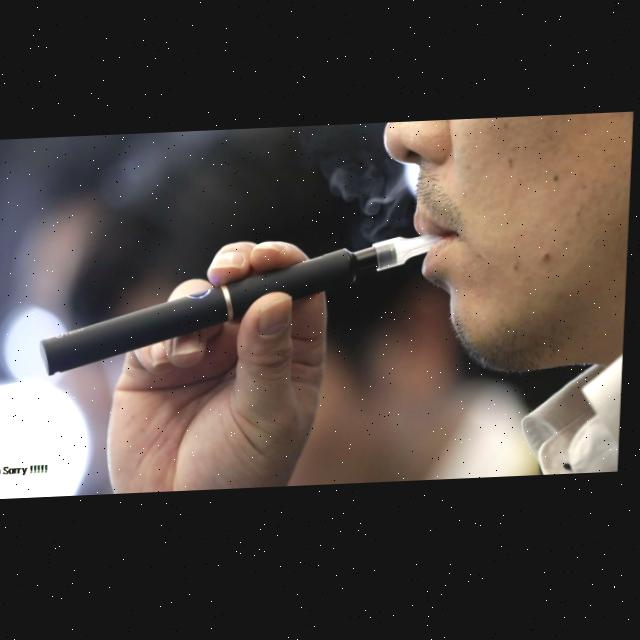vape: (42, 237, 448, 378)
